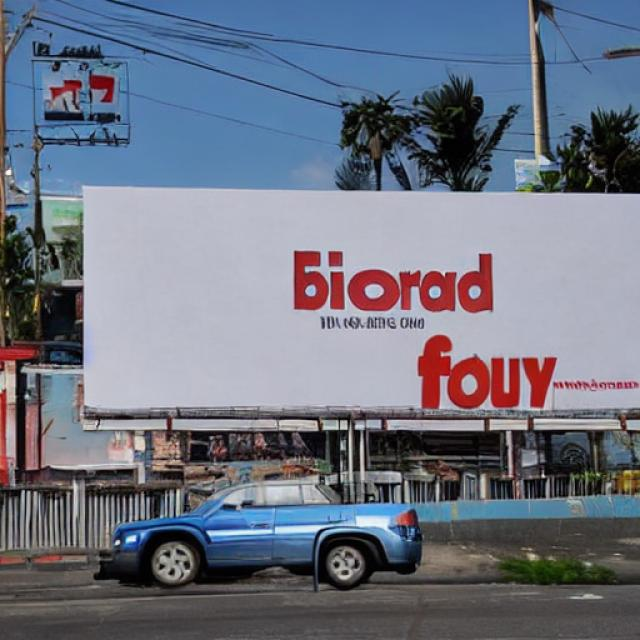Billboard: (79, 188, 640, 430)
